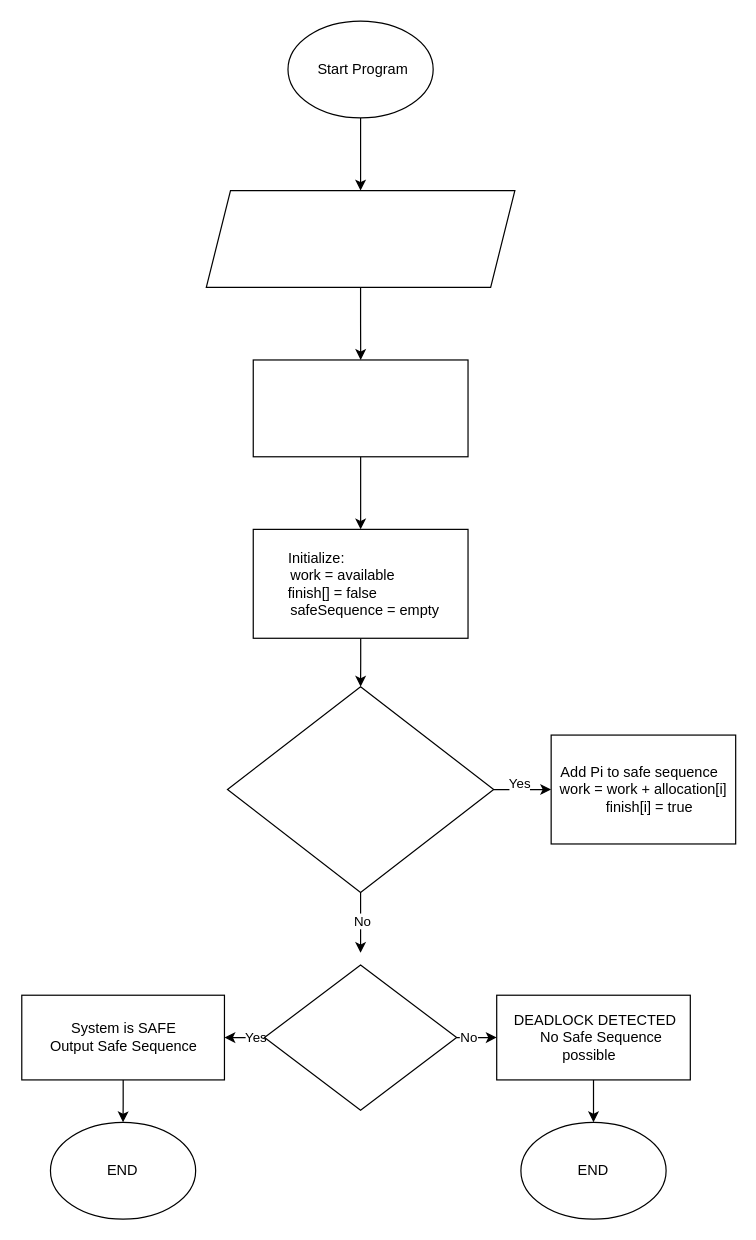
The diagram is 756 pixels wide and 1240 high, and some of its shapes have lost their labels. Each missing label, with the centre of its shape:
Calculate Need Matrix Need = MaxNeed - Allocation: (360,408)
Find a process Pi such that finish[i] = false and need[i] ≤ work for all r: (360,788)
Have all processes finish[i] = true ?: (360,1037)
Input Processes, Resources, Matrices (Allocation, MaxNeed, Available): (360,238)
